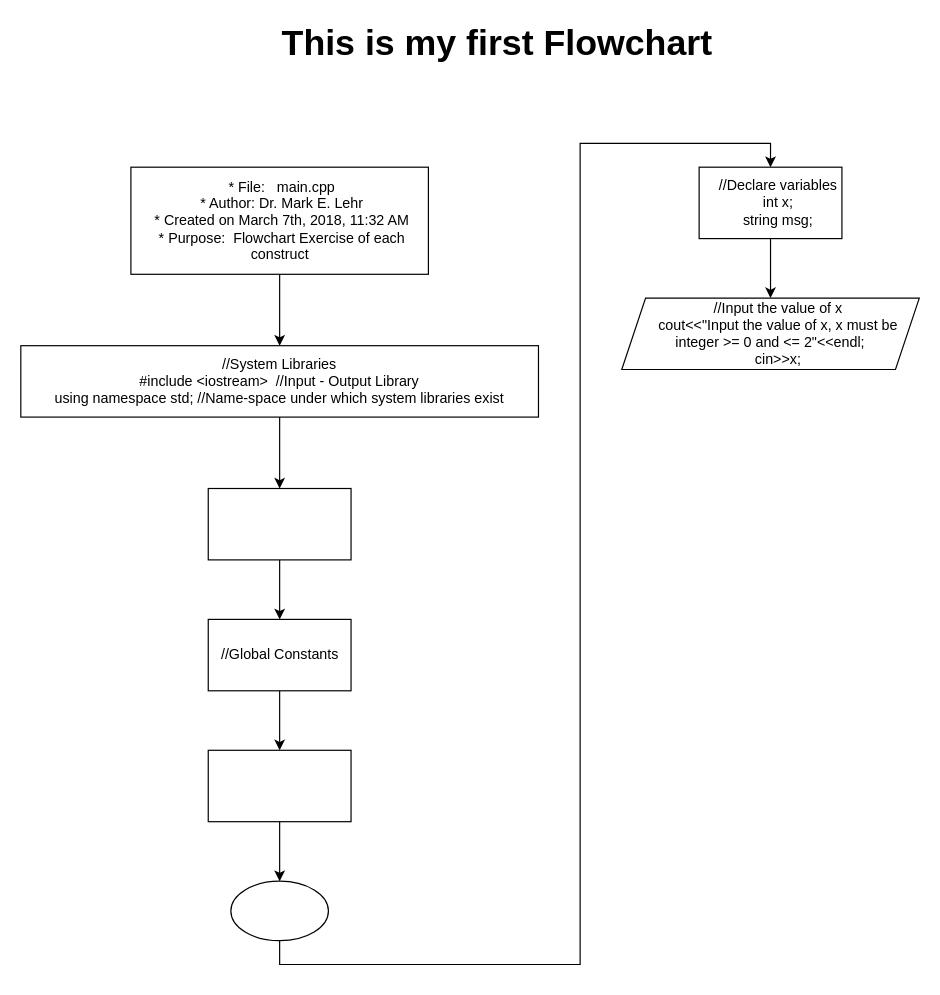
This 940x995 diagram has some shape labels left out. The shapes that lost their labels are listed below. From the top down, each one's box as (x1, y1, x2, y2) in pixels, then its label:
(207, 487, 351, 560): //User Libraries
(207, 749, 351, 822): //Function Prototypes
(230, 880, 328, 941): main
